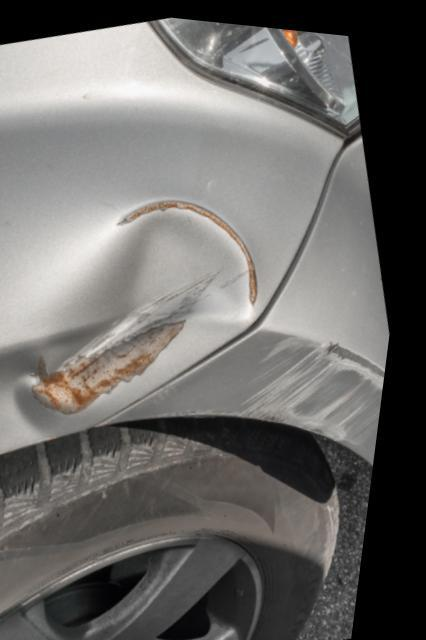dent: (0, 201, 259, 454)
scratch: (192, 326, 394, 437)
